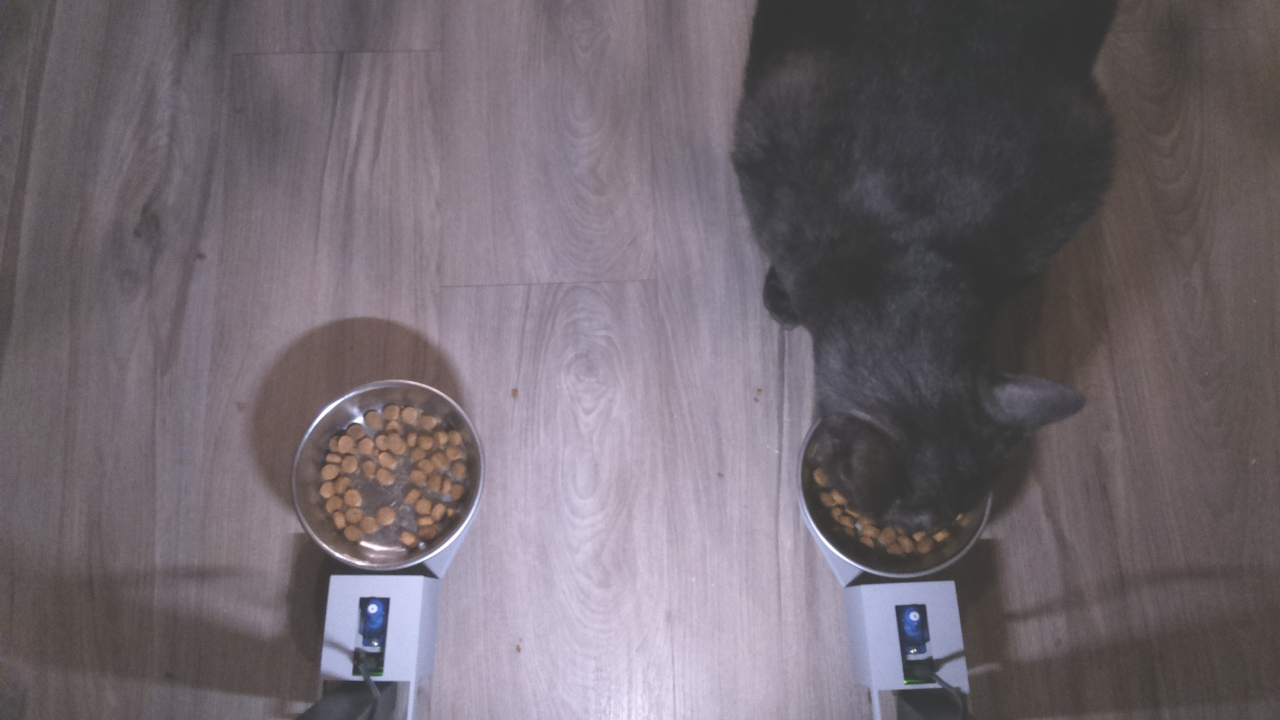open_bowl: (289, 371, 487, 575)
saki_eating: (776, 333, 1097, 582)
